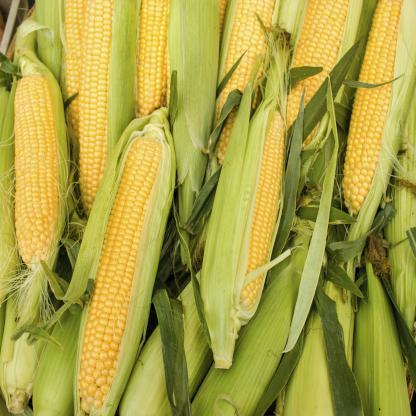---: (62, 119, 172, 416), (333, 0, 416, 229), (218, 99, 296, 335), (63, 0, 132, 218), (7, 70, 68, 292)
